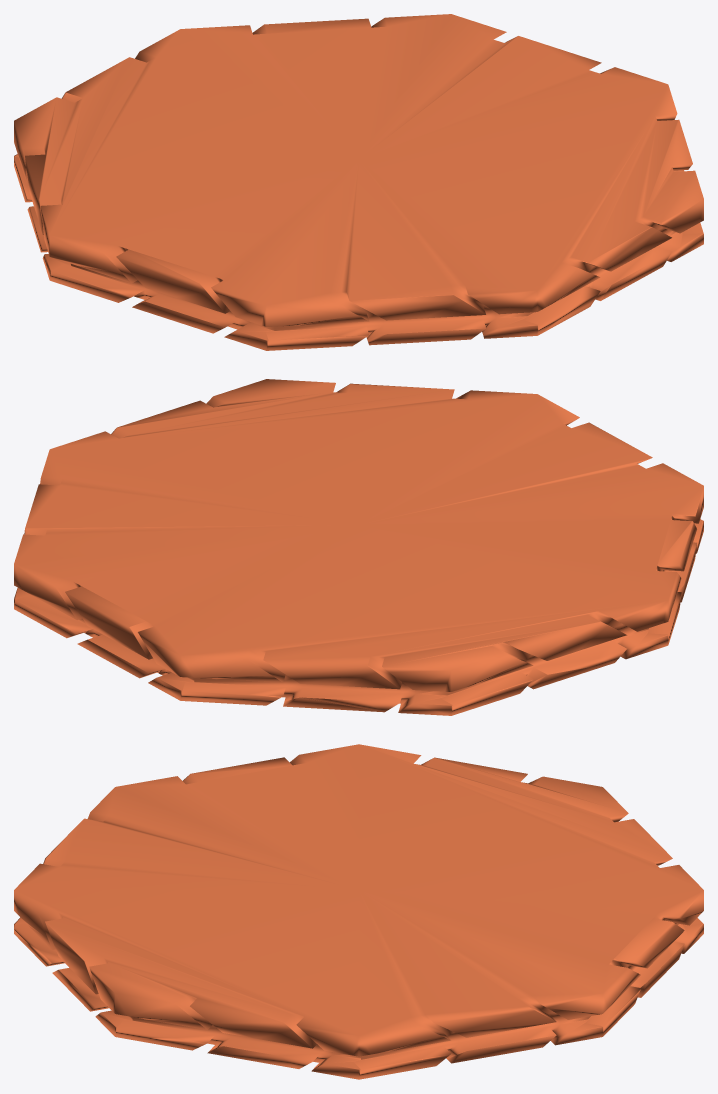
File: Platform-2.fbx
The picture shows the model from 3 angles, top to bottom: view 1: azimuth 30°, elevation 25°; view 2: azimuth 150°, elevation 25°; view 3: azimuth 270°, elevation 25°; orthographic projection. The views are drawn at different scales.
Parts seen in each view (by area): view 1: Platform.001; view 2: Platform.001; view 3: Platform.001.
Part boxes in pixels (left/top/right/bottom): Platform.001: left=14, top=14, right=703, bottom=350; Platform.001: left=14, top=379, right=703, bottom=715; Platform.001: left=14, top=744, right=703, bottom=1079.
Bounding box in the file's own units: 1.44 × 0.1011 × 1.44.
